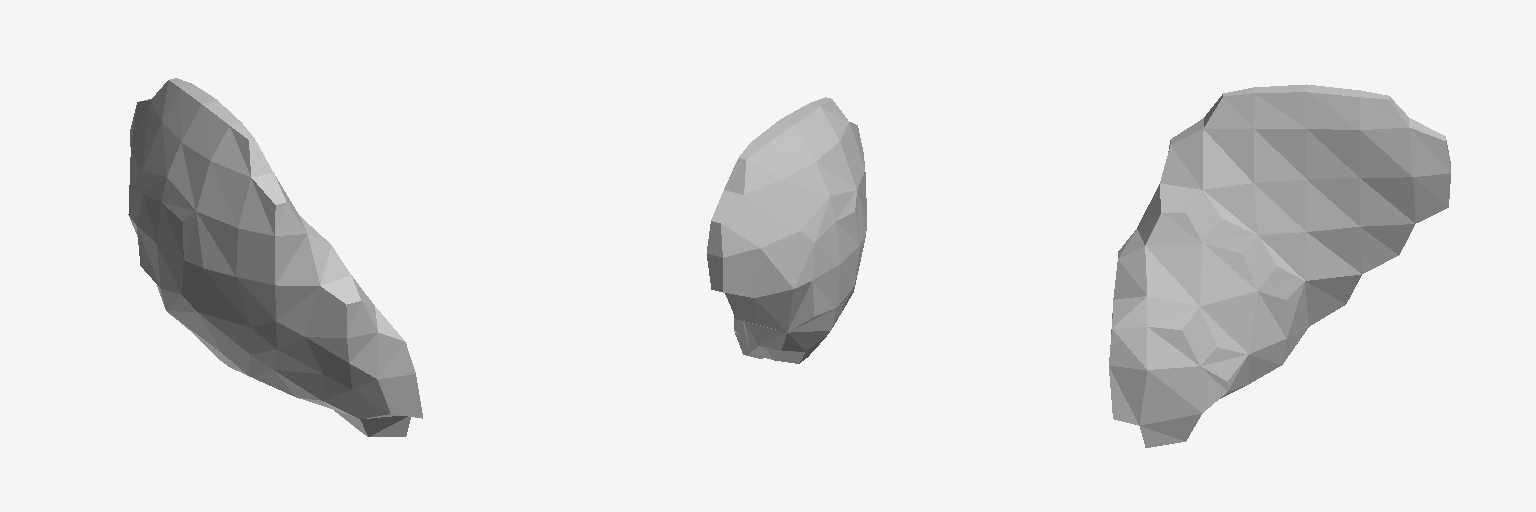
Rendered from modeloPiedras3.obj.
3 views of the same model, side by side, from view 1: azimuth 30°, elevation 25°; view 2: azimuth 150°, elevation 25°; view 3: azimuth 270°, elevation 25° (orthographic).
Size of the model in its own units: 1.71 by 2.9 by 2.97.